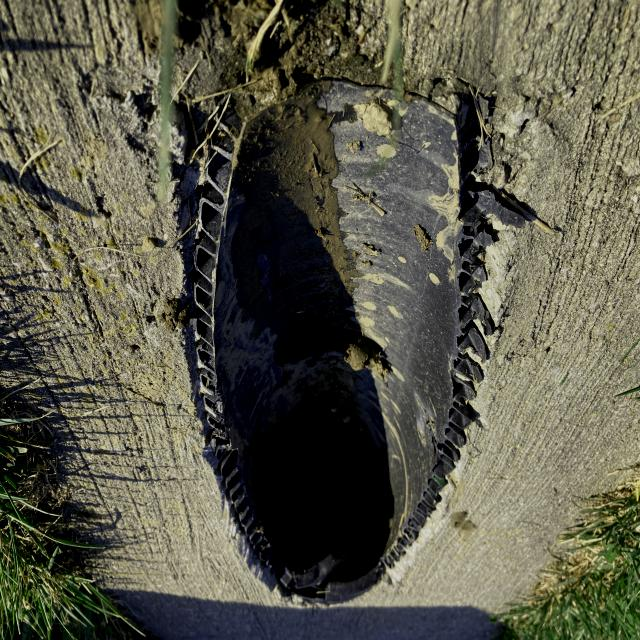dirt: (256, 107, 332, 318), (285, 327, 391, 381)
